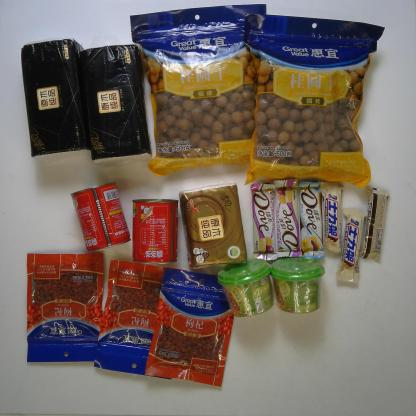Canned Food: (70, 181, 132, 254), (132, 198, 178, 266)
Chocolate: (358, 186, 391, 264), (296, 178, 328, 256), (336, 205, 366, 288), (272, 178, 302, 259), (250, 180, 276, 262), (318, 181, 346, 253)
Dried Food: (243, 13, 385, 196), (128, 3, 272, 178)
Dried Fruit: (93, 259, 189, 383), (143, 267, 240, 388), (24, 251, 104, 364)
Instant Drink: (218, 258, 275, 318), (269, 257, 326, 314)
Tissue: (80, 43, 153, 166), (20, 37, 85, 162), (177, 182, 249, 272)
